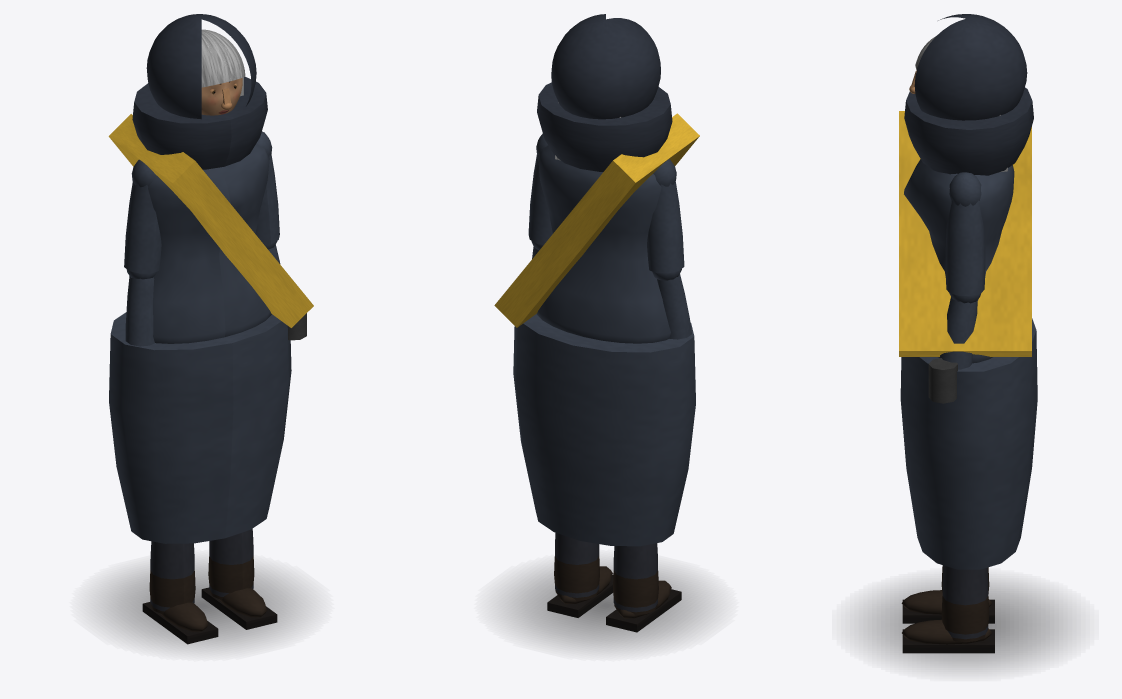
The model's file is npc_ro.glb.
3 renders of one model, left to right at view 1: azimuth 30°, elevation 25°; view 2: azimuth 150°, elevation 25°; view 3: azimuth 270°, elevation 25°, orthographic. The views are drawn at different scales.
Parts seen in each view (by area): view 1: object 13, chest, head, object 12, shinL, shinR, armL, foreL, armR; view 2: object 13, chest, head, object 12, shinL, shinR, armL, foreL, armR; view 3: object 13, chest, head, object 12, shinR, armR, foreR, shinL.
Part boxes in pixels (x1,y1,x2,y2): object 13: [109, 312, 306, 543]; chest: [108, 114, 313, 343]; head: [132, 14, 267, 169]; object 12: [96, 561, 306, 649]; shinL: [142, 541, 218, 644]; shinR: [201, 529, 277, 629]; armL: [124, 159, 161, 273]; foreL: [125, 269, 155, 346]; armR: [255, 131, 279, 245]; object 13: [513, 314, 695, 546]; chest: [494, 113, 699, 343]; head: [537, 14, 672, 171]; object 12: [501, 561, 711, 649]; shinL: [606, 543, 681, 632]; shinR: [547, 533, 613, 617]; armL: [647, 159, 684, 273]; foreL: [652, 269, 691, 339]; armR: [528, 133, 552, 244]; object 13: [900, 318, 1037, 569]; chest: [899, 111, 1031, 363]; head: [904, 14, 1033, 175]; object 12: [858, 580, 1072, 669]; shinR: [902, 565, 994, 653]; armR: [945, 172, 985, 295]; foreR: [940, 293, 980, 369]; shinL: [901, 565, 994, 623].
Bounding box in the file's own units: 0.77 × 1.83 × 0.77.
Materials: 7 (5 with a texture image).
